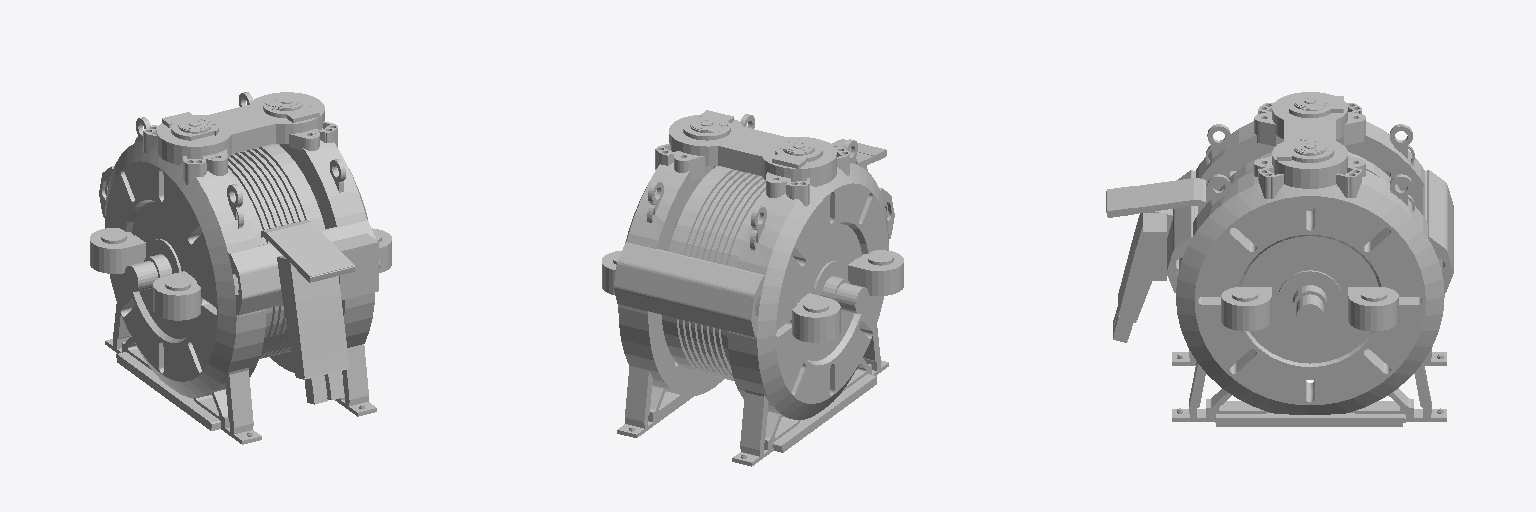
Rendered from yyf_before.obj.
The picture shows the model from 3 angles: view 1: azimuth 30°, elevation 25°; view 2: azimuth 150°, elevation 25°; view 3: azimuth 270°, elevation 25°; orthographic projection.
Visible parts, largest first — view 1: _____________________3332_, _____________________2992_, _______3485_, _____________________4299_, _______3817_, _______3466_, _______3459_, _______4840_, _______4792_, _____________________4744_, _______3087_, _____________________4301_ (+3 smaller); view 2: _____________________3332_, _____________________2992_, _______3385_, _____________________4299_, _______4840_, _______4754_, _______3049_, _____________________4744_, _____________________4301_, _______4876_, _____________________4300_, _______3171_ (+1 smaller); view 3: _____________________3332_, _____________________4299_, _______3466_, _______3135_, _______3385_, _______3485_, _____________________3334_, _______3459_, _______3817_, _______3171_, _______3099_, _______3256_ (+6 smaller).
Part boxes in pixels (x1,y1,x2,y2): _____________________3332_: (90, 128, 391, 397); _____________________2992_: (228, 143, 324, 358); _______3485_: (277, 256, 348, 379); _____________________4299_: (157, 92, 324, 164); _______3817_: (228, 220, 379, 315); _______3466_: (261, 220, 354, 282); _______3459_: (332, 233, 378, 299); _______4840_: (116, 352, 220, 430); _______4792_: (225, 368, 253, 427); _____________________4744_: (125, 254, 171, 291); _______3087_: (342, 344, 368, 399); _____________________4301_: (263, 94, 319, 122); _____________________3332_: (602, 114, 903, 419); _____________________2992_: (662, 166, 765, 380); _______3385_: (614, 242, 765, 336); _____________________4299_: (669, 115, 836, 186); _______4840_: (773, 374, 876, 452); _______4754_: (740, 390, 768, 449); _______3049_: (625, 366, 652, 421); _____________________4744_: (821, 276, 868, 313); _____________________4301_: (683, 110, 733, 140); _______4876_: (764, 412, 800, 450); _____________________4300_: (772, 139, 822, 168); _______3171_: (648, 386, 682, 421); _____________________3332_: (1176, 121, 1444, 414); _____________________4299_: (1272, 92, 1347, 188); _______3466_: (1106, 178, 1205, 217); _______3135_: (1215, 413, 1405, 426); _______3385_: (1423, 170, 1453, 292); _______3485_: (1118, 209, 1172, 322); _____________________3334_: (1278, 270, 1342, 329); _______3459_: (1143, 213, 1166, 280); _______3817_: (1167, 170, 1197, 292); _______3171_: (1350, 388, 1413, 417); _______3099_: (1206, 389, 1269, 417); _______3256_: (1296, 294, 1323, 328).
Bounding box in the file's own units: 1237 × 1355 × 1601.